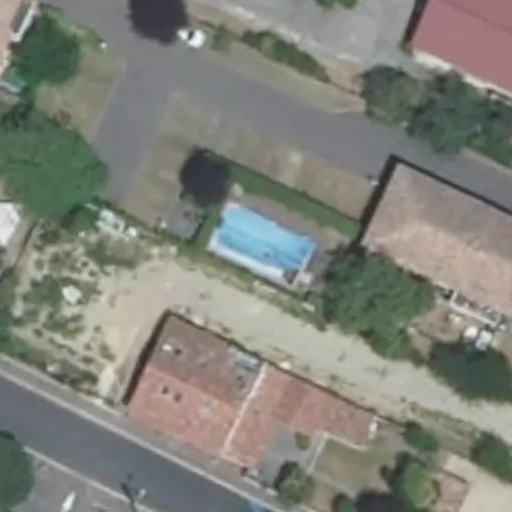pool: (220, 207, 310, 279)
